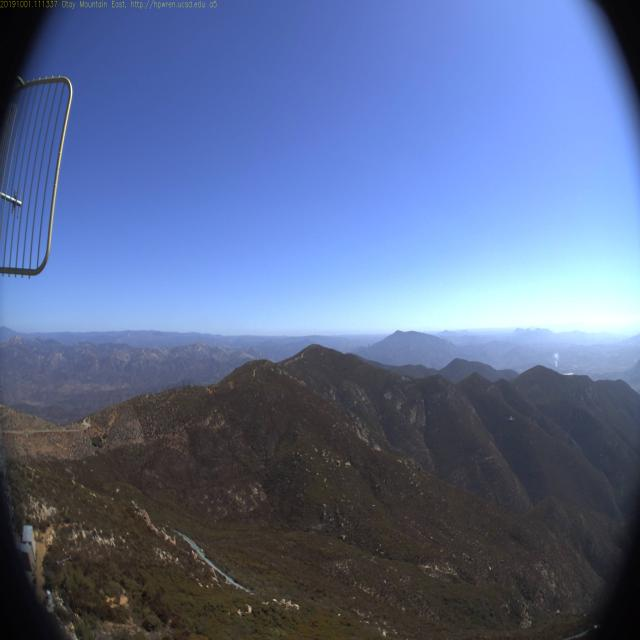smoke: (546, 345, 565, 374)
